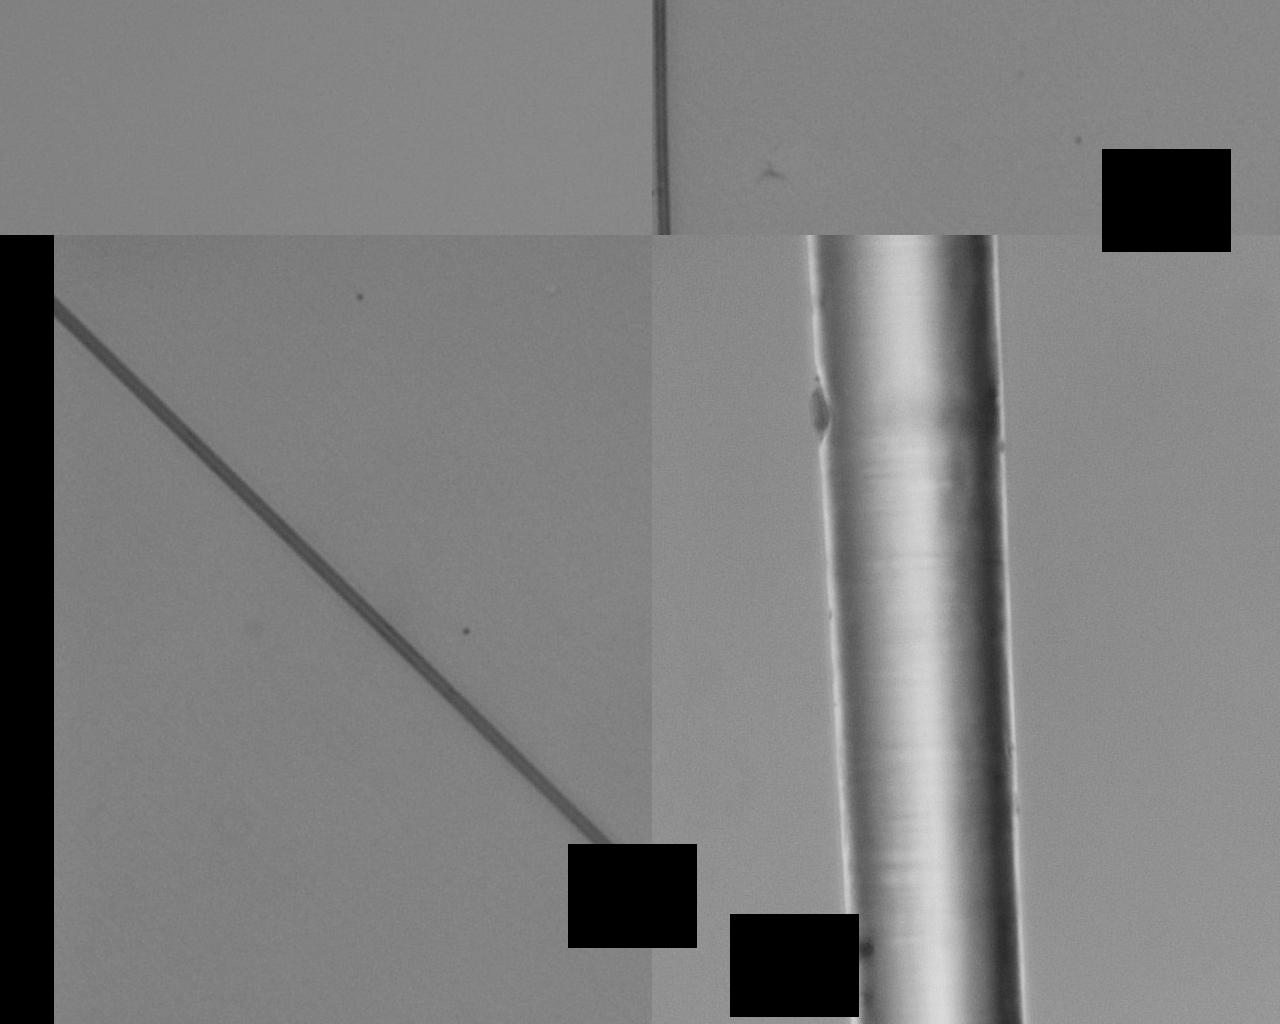fiber: (0, 539, 691, 1024), (712, 235, 1280, 491), (0, 200, 580, 281), (691, 980, 1280, 1024)
